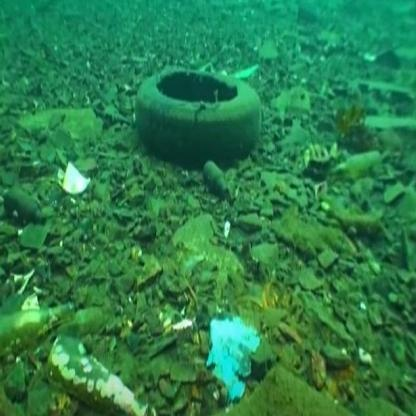tire: (126, 35, 262, 160)
